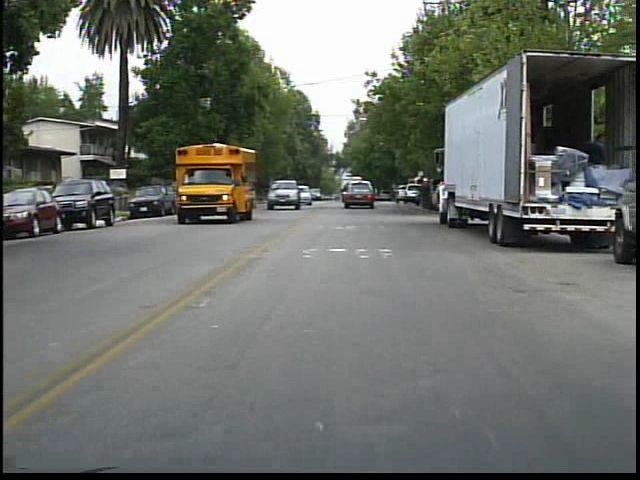person: (413, 173, 436, 221)
